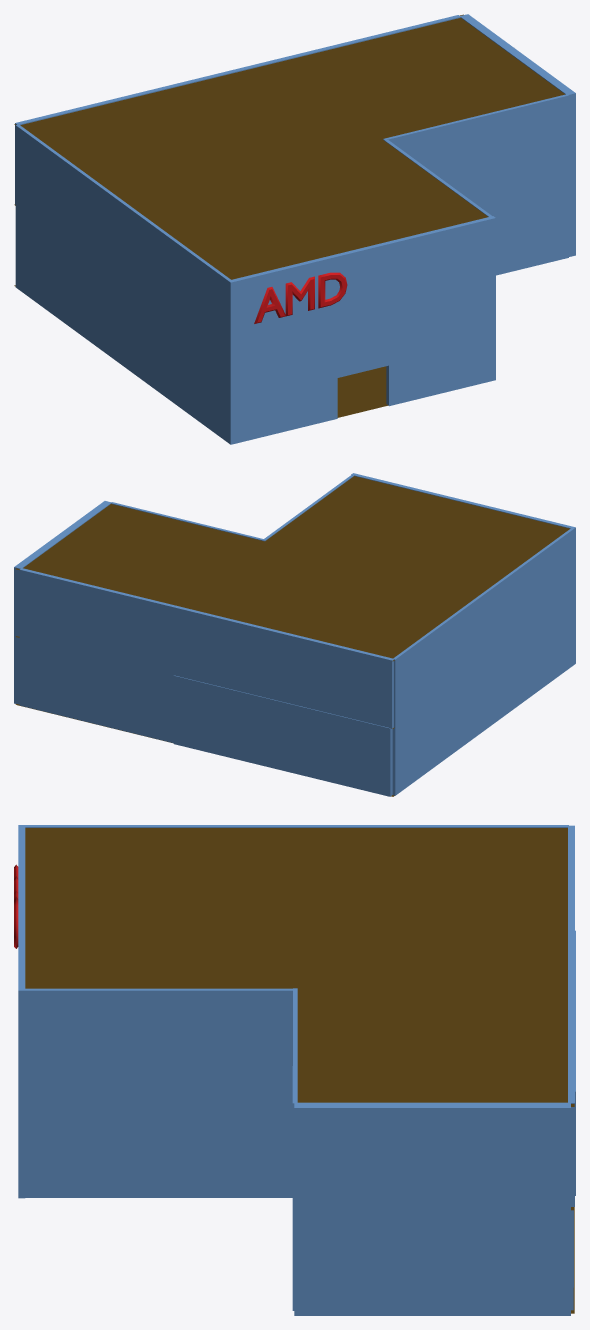
File: amdhq.fbx
3 views of the same model, one above another, from view 1: azimuth 30°, elevation 25°; view 2: azimuth 150°, elevation 25°; view 3: azimuth 270°, elevation 25° (orthographic). The views are drawn at different scales.
Visible parts, largest first — view 1: floor.014, floor.004, floor.013, floor.002, floor.011, floor.005, floor.008, floor.009, Text, floor.010, floor.007; view 2: floor.014, floor.009, floor.003, floor.013, floor.002, floor.006, floor.004, floor.010, floor.011; view 3: floor.014, floor.010, floor.007, floor.012, floor.001, floor.004, floor.009, floor.013, floor.011.
Part boxes in pixels (<box>): floor.014: <box>14,14,564,279</box>; floor.004: <box>228,216,495,444</box>; floor.013: <box>15,125,230,361</box>; floor.002: <box>15,206,227,442</box>; floor.011: <box>383,94,568,199</box>; floor.005: <box>471,176,568,275</box>; floor.008: <box>14,285,387,417</box>; floor.009: <box>15,15,460,204</box>; Text: <box>254,272,347,323</box>; floor.010: <box>460,14,575,175</box>; floor.007: <box>569,174,575,256</box>; floor.014: <box>16,476,569,661</box>; floor.009: <box>19,568,393,728</box>; floor.003: <box>173,675,392,796</box>; floor.013: <box>393,528,573,727</box>; floor.002: <box>392,597,573,795</box>; floor.006: <box>20,638,173,742</box>; floor.004: <box>351,473,575,664</box>; floor.010: <box>14,501,110,636</box>; floor.011: <box>111,502,265,541</box>; floor.014: <box>25,828,574,1106</box>; floor.010: <box>294,1102,570,1212</box>; floor.007: <box>294,1211,570,1315</box>; floor.012: <box>25,988,292,1094</box>; floor.001: <box>25,1093,292,1197</box>; floor.004: <box>18,825,25,1198</box>; floor.009: <box>568,825,574,1206</box>; floor.013: <box>25,825,568,827</box>; floor.011: <box>292,988,297,1206</box>.
Bounding box in the file's own units: 9265 × 3173 × 7772.
